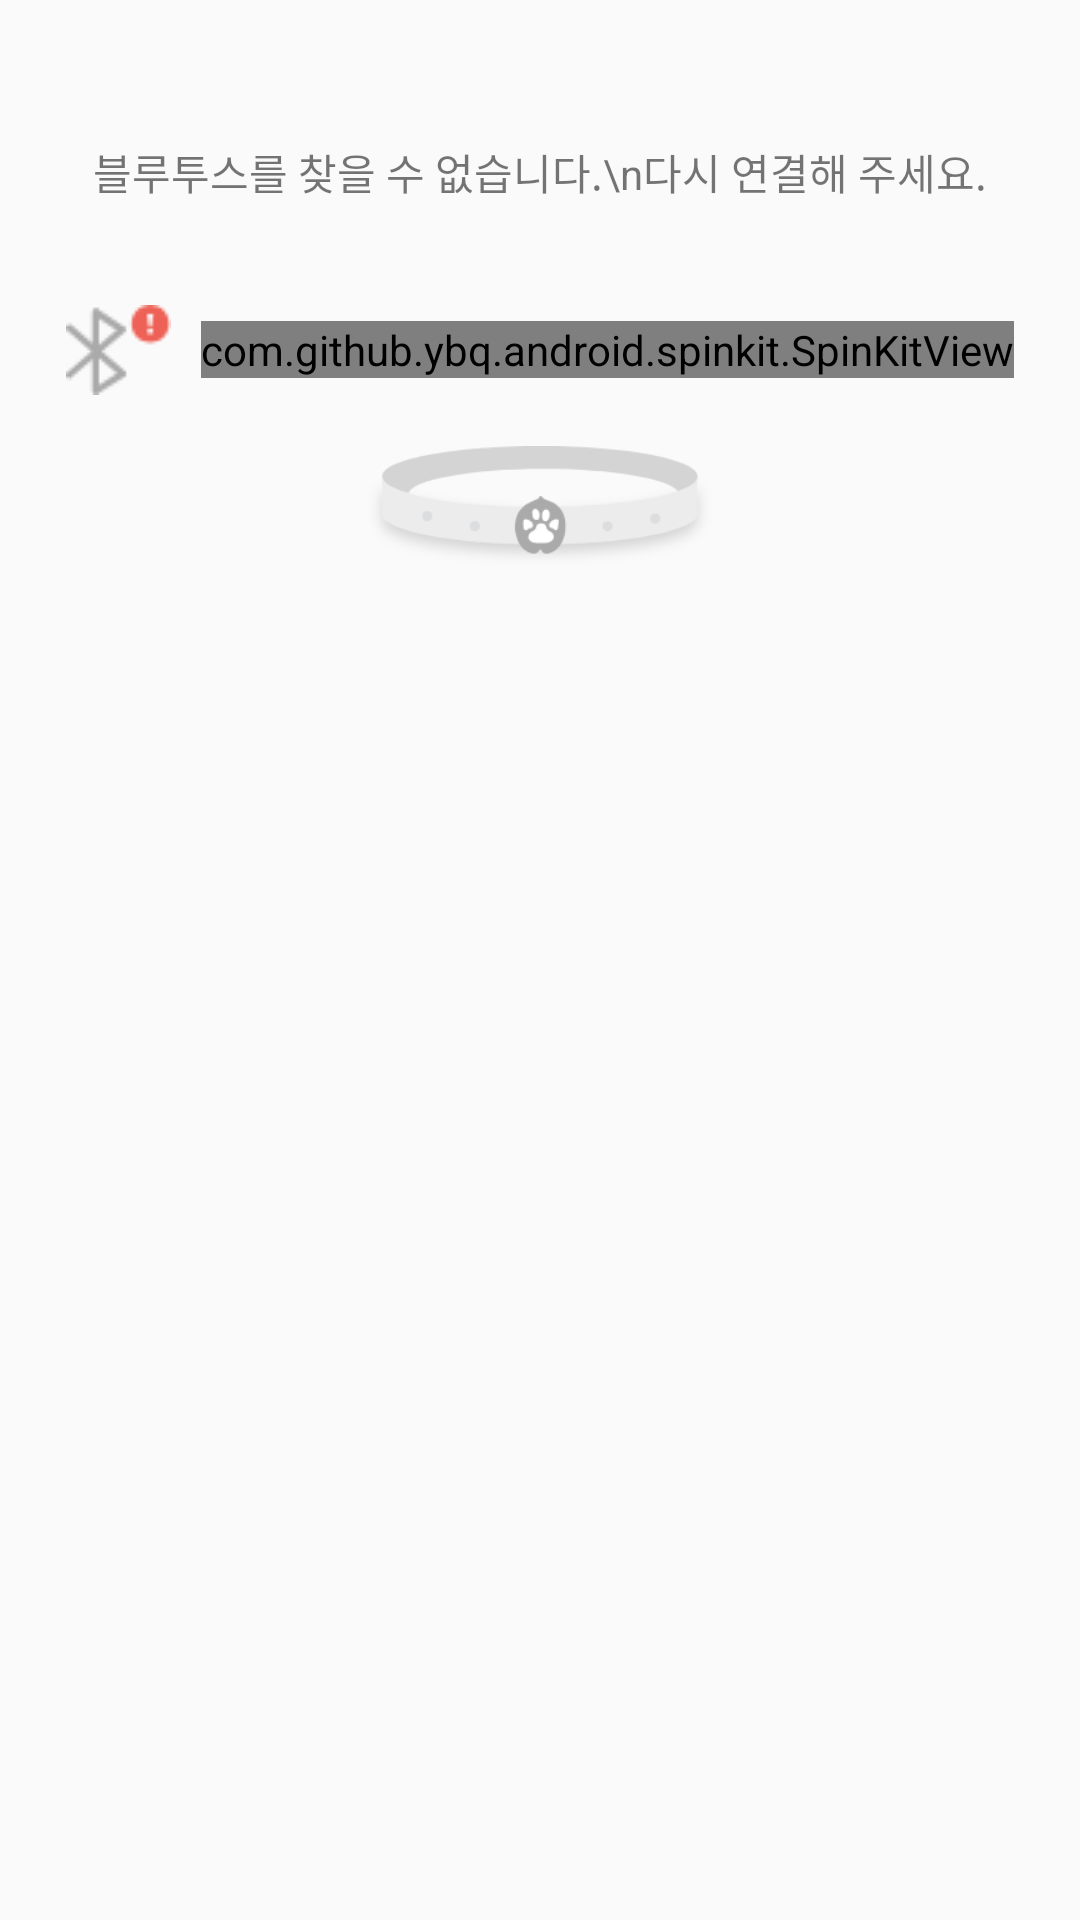

Locate icon controls on the screen. Image size 1080×1920, boxes as (x1, y1, x2, y2).
harness: (382, 446, 698, 554)
